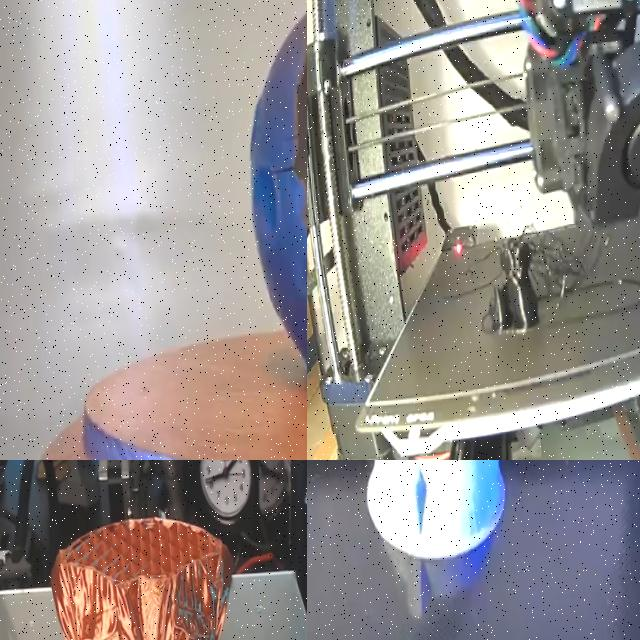spaghetti: (516, 214, 610, 315)
